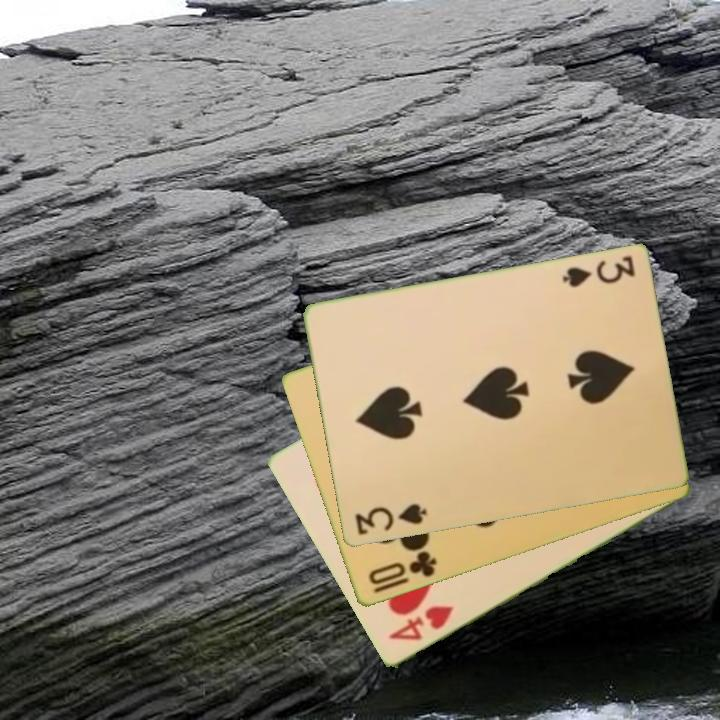10c: (365, 548, 440, 597)
3s: (351, 500, 430, 539), (558, 253, 638, 291)
4h: (385, 602, 456, 645)
